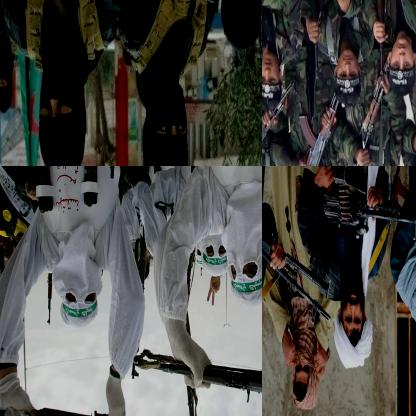rifle: (262, 166, 335, 327), (293, 166, 415, 245), (134, 344, 261, 415), (327, 48, 395, 165), (281, 88, 342, 165), (262, 77, 297, 165), (302, 0, 327, 83), (366, 0, 388, 91)
